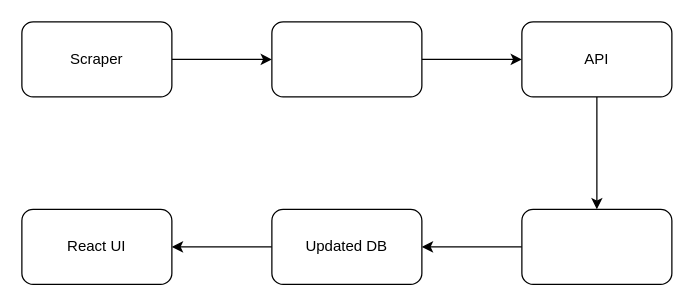
Some shapes in this 694 by 306 pixel diagram are drawn without their labels. The shapes that lost their labels are listed below. From the top down, each one's centre as x and y in pixels, then its label:
At (x=346, y=59): "MongoDB".
At (x=596, y=246): "Script ( SerpAPI + Gemini )".
